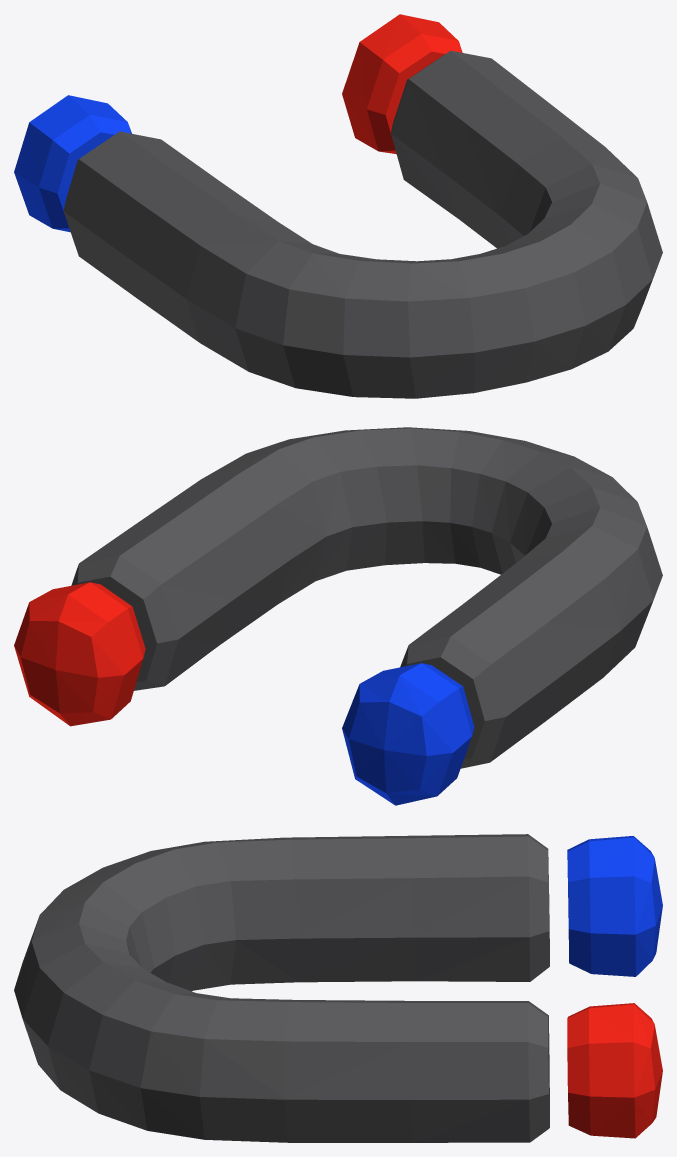
The model's file is Magnet.fbx.
3 views of the same model, one above another, from view 1: azimuth 30°, elevation 25°; view 2: azimuth 150°, elevation 25°; view 3: azimuth 270°, elevation 25° (orthographic). The views are drawn at different scales.
Parts seen in each view (by area): view 1: Magnet; view 2: Magnet; view 3: Magnet.
Part boxes in pixels (x1,y1,x2,y2): Magnet: (14,14,662,398); Magnet: (14,427,662,805); Magnet: (14,834,662,1142).
Bounding box in the file's own units: 0.0195 × 0.0047 × 0.0159.
